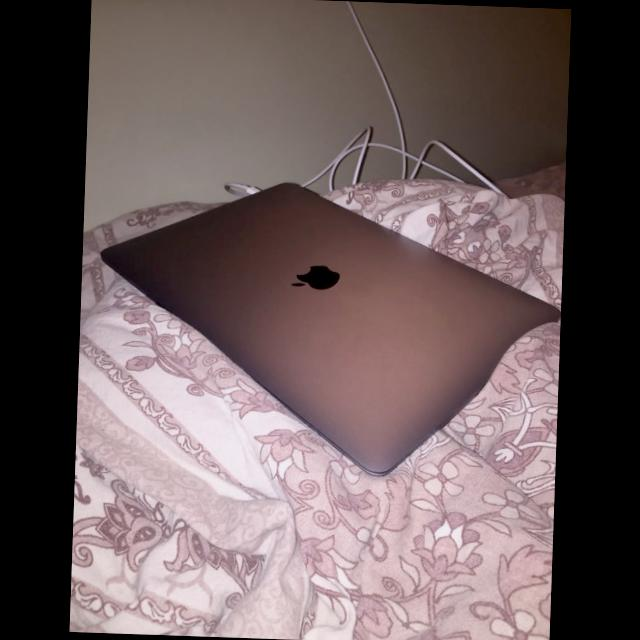laptop: (101, 183, 559, 474)
